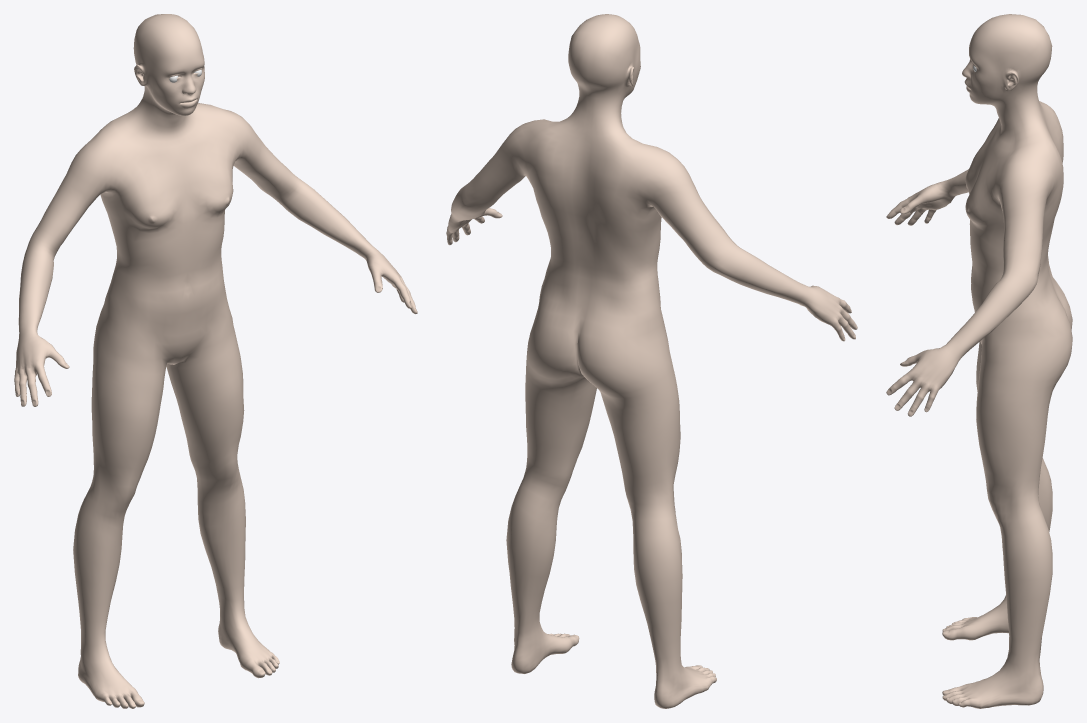
File: avatar_head.glb
3 renders of one model, left to right at view 1: azimuth 30°, elevation 25°; view 2: azimuth 150°, elevation 25°; view 3: azimuth 270°, elevation 25°, orthographic.
Visible parts, largest first — view 1: MakeHuman_Face; view 2: MakeHuman_Face; view 3: MakeHuman_Face.
Part boxes in pixels (left/top/right/bottom): MakeHuman_Face: left=14, top=14, right=417, bottom=708; MakeHuman_Face: left=446, top=14, right=857, bottom=708; MakeHuman_Face: left=886, top=14, right=1072, bottom=708.
Size of the model in its own units: 1.05 by 1.66 by 0.43.
